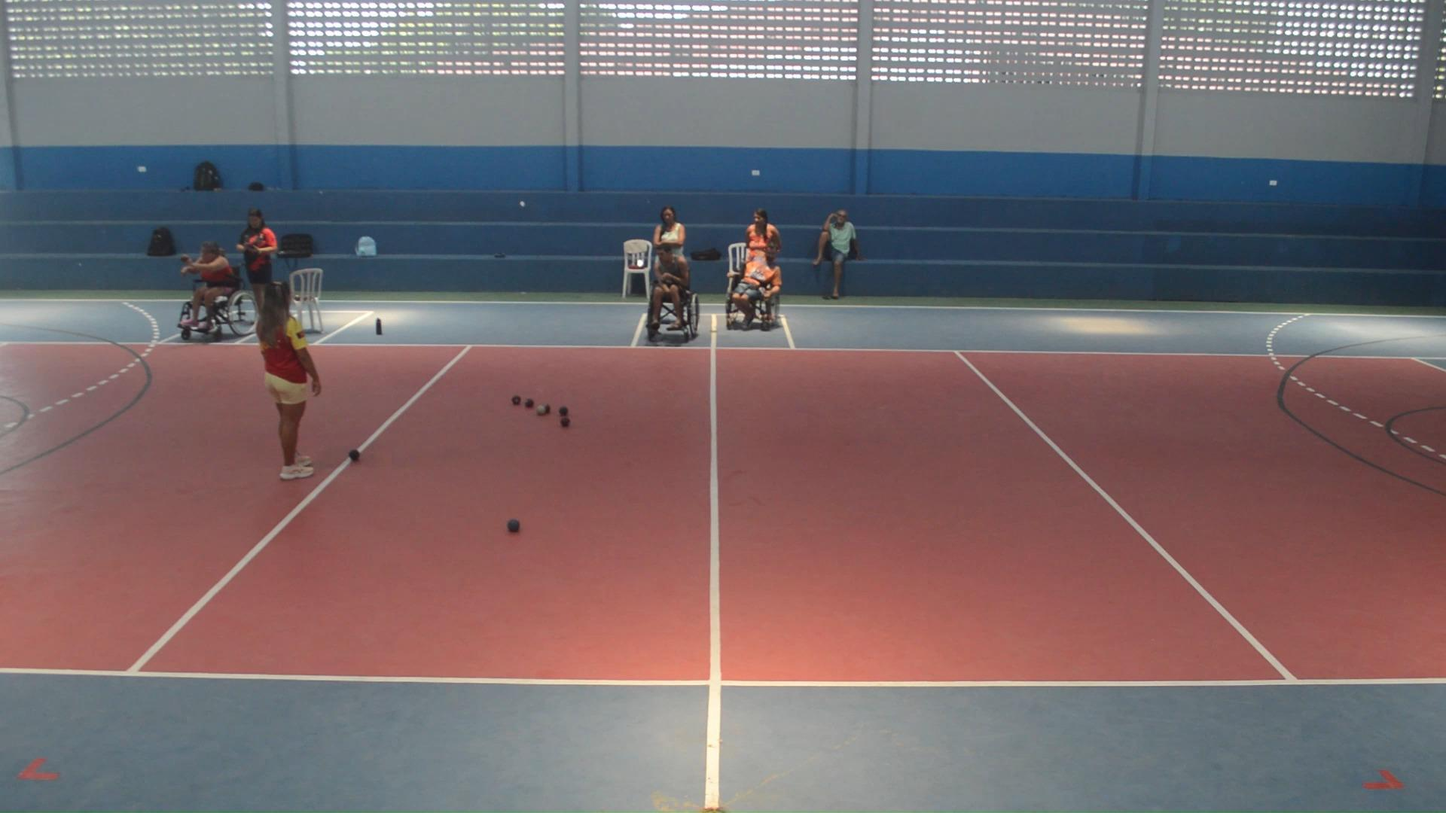blue_ball: (507, 518, 521, 533), (559, 406, 568, 416)
red_ball: (511, 395, 521, 405), (524, 398, 534, 408), (561, 417, 570, 427)
white_ball: (536, 405, 546, 416)
